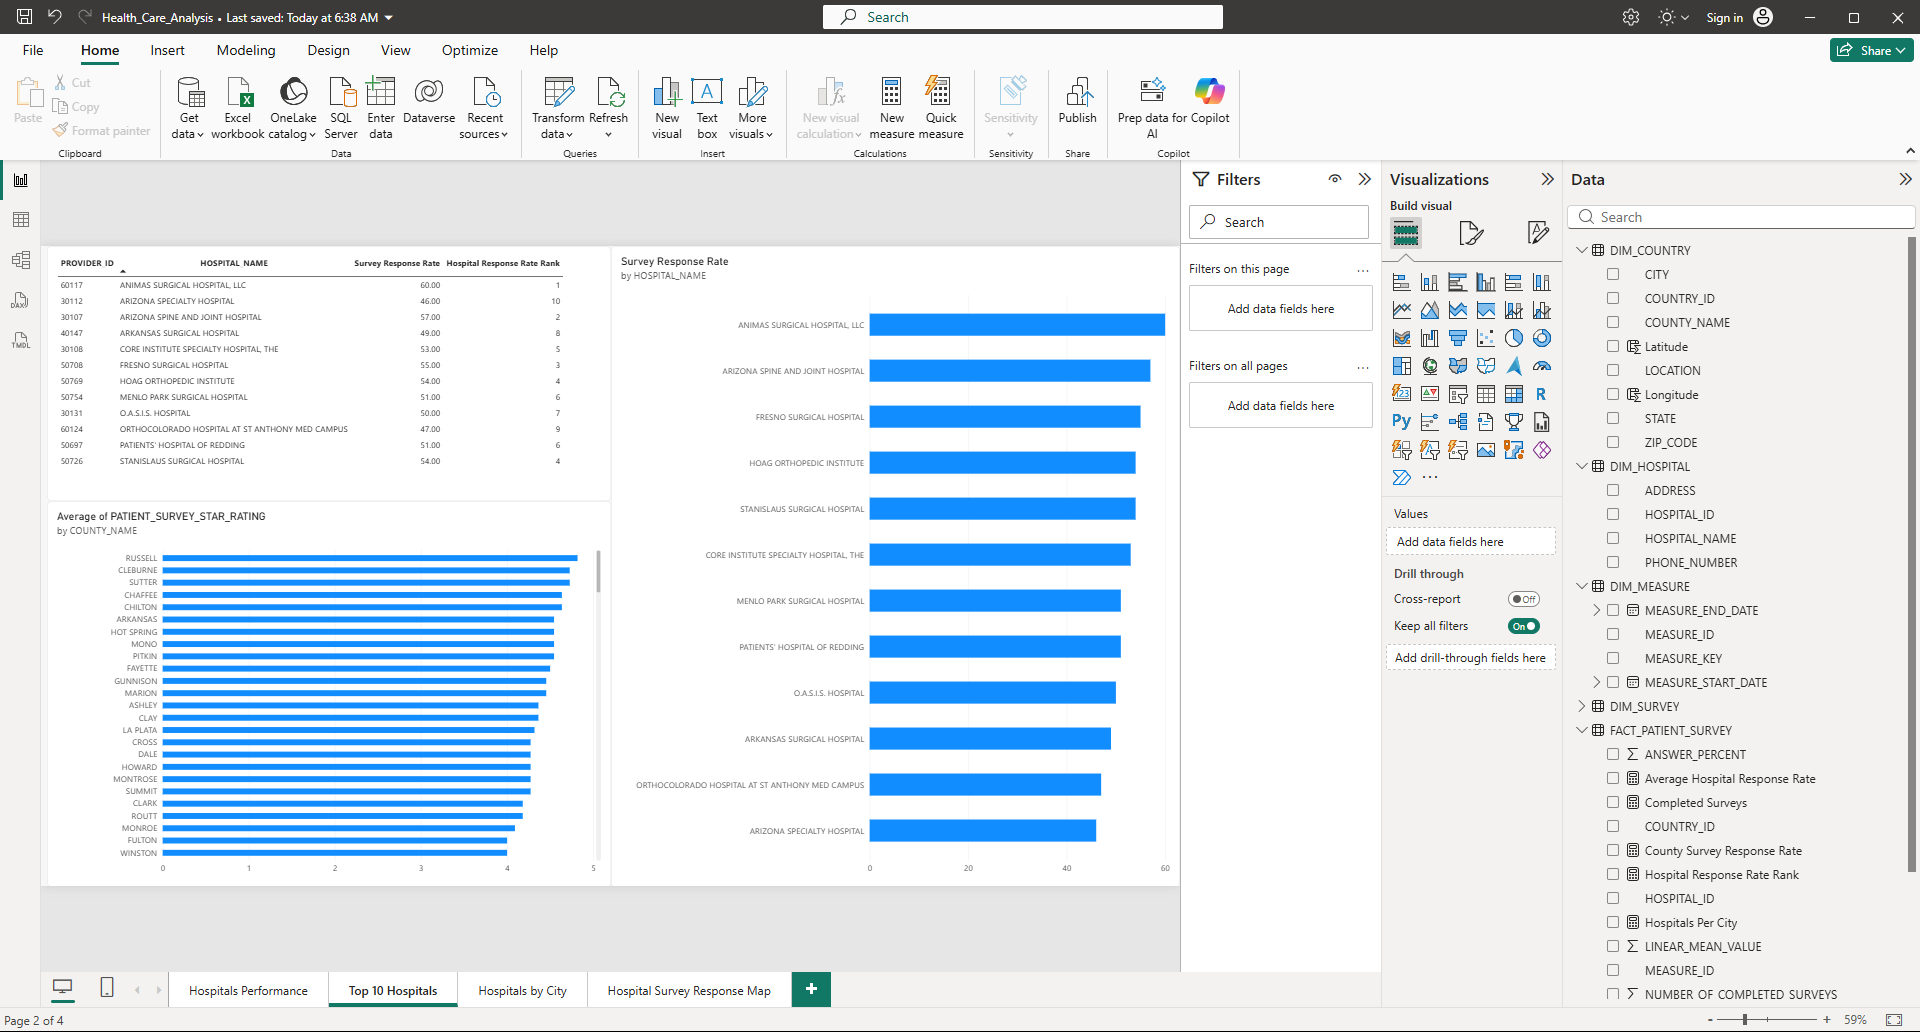

The dashboard page shown, as its layout file describes it:
{"tool":"powerbi","page":{"name":"Top 10 Hospitals","canvas":[1920,1080],"ordinal":1},"visuals":[{"type":"tableEx","fields":{"Values":["DIM_HOSPITAL.PROVIDER_ID","DIM_HOSPITAL.HOSPITAL_NAME","FACT_PATIENT_SURVEY.Survey Response Rate","FACT_PATIENT_SURVEY.Hospital Response Rate Rank"]},"box":[10.1,0,950.7,429.9],"z":0},{"type":"clusteredBarChart","fields":{"Category":["DIM_HOSPITAL.HOSPITAL_NAME"],"Y":["FACT_PATIENT_SURVEY.Survey Response Rate"]},"box":[960.8,0,959.2,1080.5],"z":1000},{"type":"clusteredBarChart","fields":{"Category":["DIM_COUNTRY.COUNTY_NAME","DIM_COUNTRY.CITY","DIM_HOSPITAL.HOSPITAL_NAME"],"Y":["Avg(FACT_PATIENT_SURVEY.PATIENT_SURVEY_STAR_RATING)"]},"box":[10.1,429.9,950.7,650.7],"z":1001}]}

Visuals, with their boxes on the page's 1920x1080 design canvas (x1, y1, x2, y2). These are canvas units, not pixel positions in the 1920x1032 screenshot, which may show the page scaled, cropped or inside an application window:
tableEx - DIM_HOSPITAL.PROVIDER_ID x DIM_HOSPITAL.HOSPITAL_NAME: 10,0,961,430
clusteredBarChart - DIM_HOSPITAL.HOSPITAL_NAME x FACT_PATIENT_SURVEY.Survey Response Rate: 961,0,1920,1080
clusteredBarChart - DIM_COUNTRY.COUNTY_NAME x DIM_COUNTRY.CITY: 10,430,961,1081
